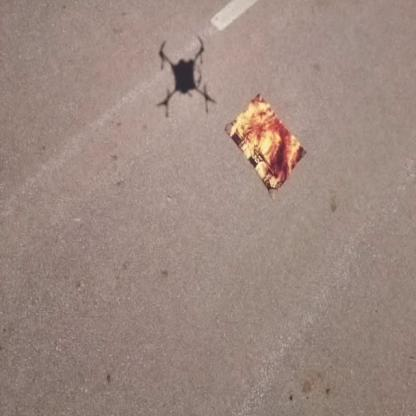fire-poster: (223, 92, 307, 200)
